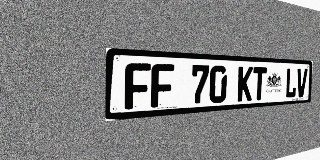0: (209, 65, 227, 104)
7: (190, 65, 209, 105)
F: (125, 63, 151, 110), (151, 63, 174, 108)
K: (237, 66, 253, 102)
L: (285, 68, 297, 98)
T: (252, 67, 267, 101)
V: (296, 68, 307, 97)
